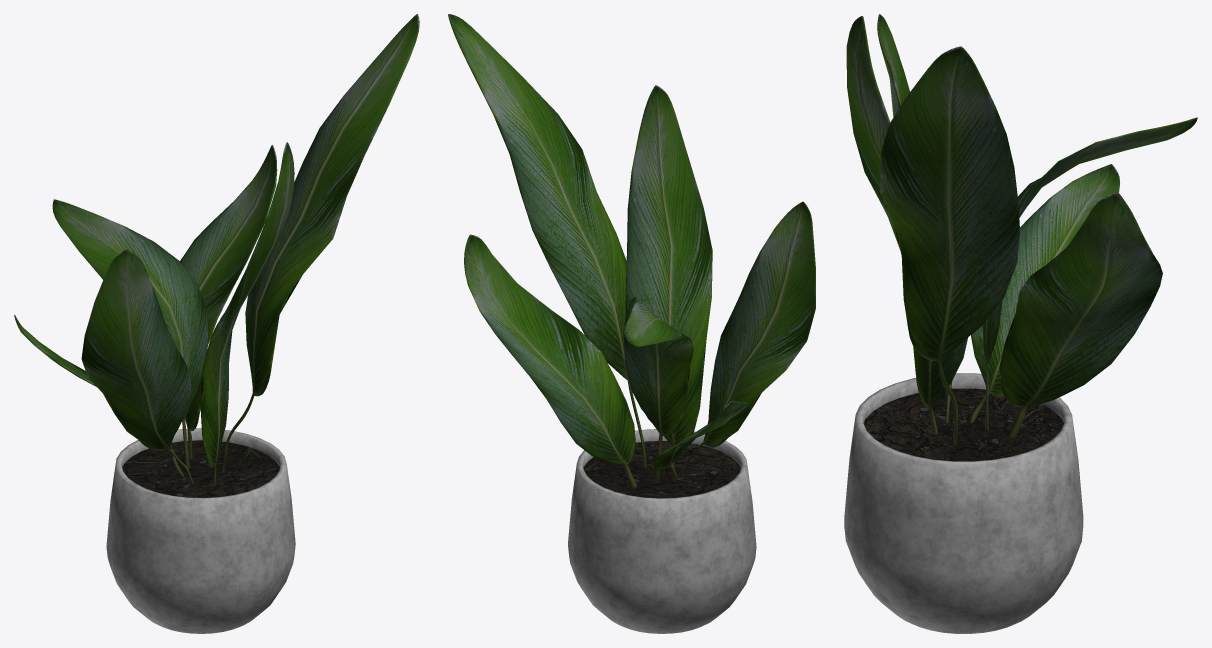
Rendered from Tree9.fbx.
The picture shows the model from 3 angles, left to right: view 1: azimuth 30°, elevation 25°; view 2: azimuth 150°, elevation 25°; view 3: azimuth 270°, elevation 25°; orthographic projection. The views are drawn at different scales.
Parts seen in each view (by area): view 1: Tree6; view 2: Tree6; view 3: Tree6.
Part boxes in pixels (left/top/right/bottom): Tree6: left=14, top=14, right=419, bottom=633; Tree6: left=448, top=14, right=815, bottom=633; Tree6: left=844, top=14, right=1197, bottom=633.
Size of the model in its own units: 123 by 184 by 84.62.
3 materials, 3 textured.
